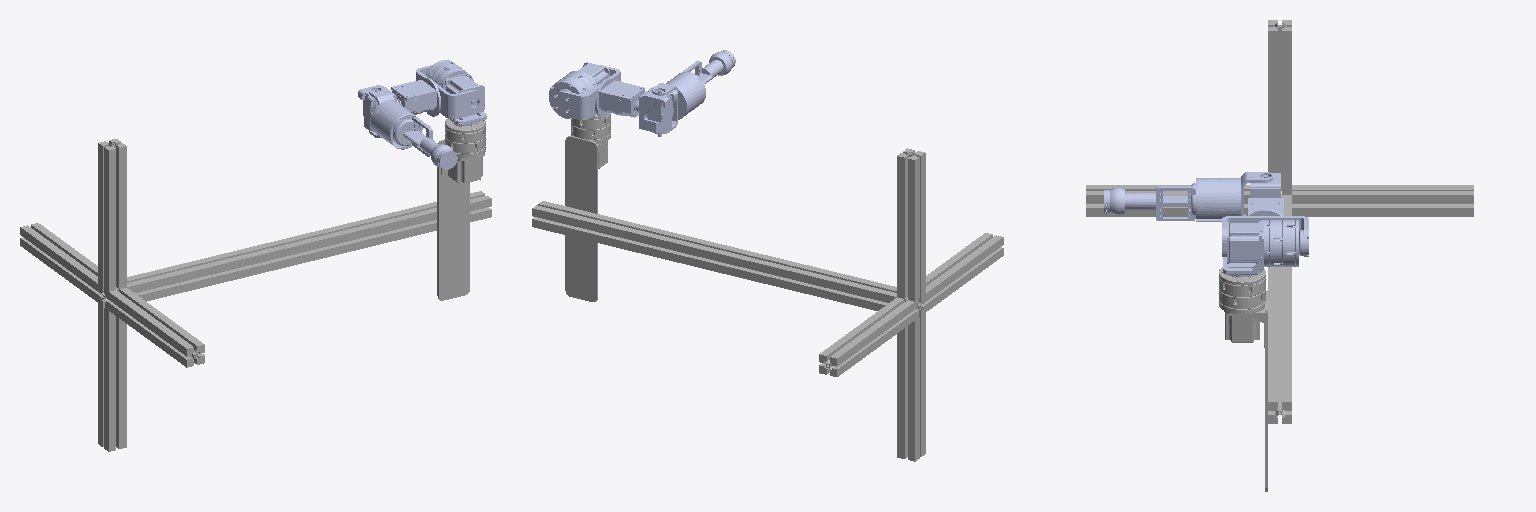
robot.urdf — structure:
<?xml version="1.0" encoding="utf-8"?>
<!-- This URDF was automatically created by SolidWorks to URDF Exporter! Originally created by [author] ([email redacted]) 
     Commit Version: 1.6.0-4-g7f85cfe  Build Version: 1.6.7995.38578
     For more information, please see http://wiki.ros.org/sw_urdf_exporter -->
<robot
  name="structure">
  <!-- Dummy root link -->
  <link name="dummy_root_link">
      <inertial>
          <origin xyz="0 0 0" rpy="0 0 0"/>
          <mass value="0"/>
          <inertia ixx="0" ixy="0" ixz="0" iyy="0" iyz="0" izz="0"/>
      </inertial>
  </link>
  <link	
    name="base_link">
    <inertial>
      <origin
        xyz="0.288254206450787 -0.0091997939503143 0.0226196209968666"
        rpy="0 0 0" />
      <mass
        value="2.71204264213078" />
      <inertia
        ixx="0.0114337911252394"
        ixy="-2.96734282003324E-08"
        ixz="4.84584273451362E-08"
        iyy="0.0624811448015093"
        iyz="4.98927049303481E-06"
        izz="0.0616434489627293" />
    </inertial>
    <visual>
      <origin
        xyz="0 0 0"
        rpy="0 0 0" />
      <geometry>
        <mesh
          filename="package://simulation/meshes/base_link.STL" />
      </geometry>
      <material
        name="">
        <color
          rgba="0.752941176470588 0.752941176470588 0.752941176470588 1" />
      </material>
    </visual>
    <collision>
      <origin
        xyz="0 0 0"
        rpy="0 0 0" />
      <geometry>
        <mesh
          filename="package://simulation/meshes/base_link.STL" />
      </geometry>
    </collision>
  </link>
  <joint name="dummy_to_base" type="fixed">
      <parent link="dummy_root_link"/>
      <child link="base_link"/>
  </joint>
  <link
    name="Link_1">
    <inertial>
      <origin
        xyz="-0.0337282336528616 0.00123774978740708 0.0721830829018513"
        rpy="0 0 0" />
      <mass
        value="0.420093635057637" />
      <inertia
        ixx="0.000256083732465909"
        ixy="-3.99170266250502E-08"
        ixz="4.75152381565343E-06"
        iyy="0.00018803318979449"
        iyz="4.52360894369062E-08"
        izz="0.000194145300752605" />
    </inertial>
    <visual>
      <origin
        xyz="0 0 0"
        rpy="0 0 0" />
      <geometry>
        <mesh
          filename="package://simulation/meshes/Link_1.STL" />
      </geometry>
      <material
        name="">
        <color
          rgba="0.792156862745098 0.819607843137255 0.933333333333333 1" />
      </material>
    </visual>
    <collision>
      <origin
        xyz="0 0 0"
        rpy="0 0 0" />
      <geometry>
        <mesh
          filename="package://simulation/meshes/Link_1.STL" />
      </geometry>
    </collision>
  </link>
  <joint
    name="Joint_1"
    type="revolute">
    <origin
      xyz="0.7675 -0.06215 0.1956"
      rpy="0 0 -1.5708" />
    <parent
      link="base_link" />
    <child
      link="Link_1" />
    <axis
      xyz="0 0 1" />
    <limit
      lower="-1.57"
      upper="1.57"
      effort="300"
      velocity="1" />
  </joint>
  <link
    name="Link_2">
    <inertial>
      <origin
        xyz="0.0416298378287598 -6.09470490440245E-05 -0.0663038404490417"
        rpy="0 0 0" />
      <mass
        value="0.278615955025223" />
      <inertia
        ixx="0.000165002912302521"
        ixy="-1.31094353708643E-11"
        ixz="-2.96260989967252E-05"
        iyy="0.000468565895924395"
        iyz="8.99879249902309E-06"
        izz="0.000407476308496427" />
    </inertial>
    <visual>
      <origin
        xyz="0 0 0"
        rpy="0 0 0" />
      <geometry>
        <mesh
          filename="package://simulation/meshes/Link_2.STL" />
      </geometry>
      <material
        name="">
        <color
          rgba="0.792156862745098 0.819607843137255 0.933333333333333 1" />
      </material>
    </visual>
    <collision>
      <origin
        xyz="0 0 0"
        rpy="0 0 0" />
      <geometry>
        <mesh
          filename="package://simulation/meshes/Link_2.STL" />
      </geometry>
    </collision>
  </link>
  <joint
    name="Joint_2"
    type="revolute">
    <origin
      xyz="0 0.0013362 0.07666"
      rpy="1.5708 0 3.1416" />
    <parent
      link="Link_1" />
    <child
      link="Link_2" />
    <axis
      xyz="1 0 0" />
    <limit
      lower="0"
      upper="3.142"
      effort="250"
      velocity="1" />
  </joint>
  <link
    name="Link_3">
    <inertial>
      <origin
        xyz="-0.00255572998753838 -0.000138853216705294 -0.040413033479959"
        rpy="0 0 0" />
      <mass
        value="0.181975615916788" />
      <inertia
        ixx="5.98760291726209E-05"
        ixy="-1.01654287036154E-08"
        ixz="-7.14820951270207E-06"
        iyy="8.71073633176546E-05"
        iyz="2.29352817486163E-20"
        izz="9.55833970874025E-05" />
    </inertial>
    <visual>
      <origin
        xyz="0 0 0"
        rpy="0 0 0" />
      <geometry>
        <mesh
          filename="package://simulation/meshes/Link_3.STL" />
      </geometry>
      <material
        name="">
        <color
          rgba="0.792156862745098 0.819607843137255 0.933333333333333 1" />
      </material>
    </visual>
    <collision>
      <origin
        xyz="0 0 0"
        rpy="0 0 0" />
      <geometry>
        <mesh
          filename="package://simulation/meshes/Link_3.STL" />
      </geometry>
    </collision>
  </link>
  <joint
    name="Joint_3"
    type="revolute">
    <origin
      xyz="0.038437 -0.00375 -0.12973"
      rpy="0 0 -1.5708" />
    <parent
      link="Link_2" />
    <child
      link="Link_3" />
    <axis
      xyz="0 0 1" />
    <limit
      lower="-1.57"
      upper="1.57"
      effort="200"
      velocity="1" />
  </joint>
  <link
    name="Link_4">
    <inertial>
      <origin
        xyz="-0.000204143477795682 -1.48706843228208E-08 0.0729352587861481"
        rpy="0 0 0" />
      <mass
        value="0.290561826608547" />
      <inertia
        ixx="0.000215343751812786"
        ixy="-1.18549672936912E-10"
        ixz="1.46007563330613E-06"
        iyy="0.000241962713427212"
        iyz="1.36290875047269E-10"
        izz="0.000191038892171142" />
    </inertial>
    <visual>
      <origin
        xyz="0 0 0"
        rpy="0 0 0" />
      <geometry>
        <mesh
          filename="package://simulation/meshes/Link_4.STL" />
      </geometry>
      <material
        name="">
        <color
          rgba="0.792156862745098 0.819607843137255 0.933333333333333 1" />
      </material>
    </visual>
    <collision>
      <origin
        xyz="0 0 0"
        rpy="0 0 0" />
      <geometry>
        <mesh
          filename="package://simulation/meshes/Link_4.STL" />
      </geometry>
    </collision>
  </link>
  <joint
    name="Joint_4"
    type="revolute">
    <origin
      xyz="0 0 -0.047"
      rpy="1.5708 0 0" />
    <parent
      link="Link_3" />
    <child
      link="Link_4" />
    <axis
      xyz="-1 0 0" />
    <limit
      lower="-1.57"
      upper="1.57"
      effort="150"
      velocity="2" />
  </joint>
  <link
    name="Link_5">
    <inertial>
      <origin
        xyz="7.52893854205627E-09 -0.00588084447256662 0.0735173344149918"
        rpy="0 0 0" />
      <mass
        value="0.09899847472984" />
      <inertia
        ixx="0.000233936398203996"
        ixy="3.56312559160043E-12"
        ixz="2.69379226551096E-11"
        iyy="0.000236429656540369"
        iyz="3.81602268364248E-06"
        izz="2.12990655219596E-05" />
    </inertial>
    <visual>
      <origin
        xyz="0 0 0"
        rpy="0 0 0" />
      <geometry>
        <mesh
          filename="package://simulation/meshes/Link_5.STL" />
      </geometry>
      <material
        name="">
        <color
          rgba="0.792156862745098 0.819607843137255 0.933333333333333 1" />
      </material>
    </visual>
    <collision>
      <origin
        xyz="0 0 0"
        rpy="0 0 0" />
      <geometry>
        <mesh
          filename="package://simulation/meshes/Link_5.STL" />
      </geometry>
    </collision>
  </link>
  <joint
    name="Joint_5"
    type="revolute">
    <origin
      xyz="-0.0003934 0 0.11591"
      rpy="0 0 3.1416" />
    <parent
      link="Link_4" />
    <child
      link="Link_5" />
    <axis
      xyz="0 0 1" />
    <limit
      lower="-1.57"
      upper="1.57"
      effort="100"
      velocity="2" />
  </joint>
  <link
    name="Link_6">
    <inertial>
      <origin
        xyz="1.54813459968262E-08 0.00699176208068461 -2.1994034093975E-09"
        rpy="0 0 0" />
      <mass
        value="0.0219203307644374" />
      <inertia
        ixx="6.24219812154435E-06"
        ixy="-1.78757331985773E-12"
        ixz="1.01577205547272E-12"
        iyy="7.19149255148497E-06"
        iyz="3.79315945833703E-13"
        izz="6.23132089471632E-06" />
    </inertial>
    <visual>
      <origin
        xyz="0 0 0"
        rpy="0 0 0" />
      <geometry>
        <mesh
          filename="package://simulation/meshes/Link_6.STL" />
      </geometry>
      <material
        name="">
        <color
          rgba="0.792156862745098 0.819607843137255 0.933333333333333 1" />
      </material>
    </visual>
    <collision>
      <origin
        xyz="0 0 0"
        rpy="0 0 0" />
      <geometry>
        <mesh
          filename="package://simulation/meshes/Link_6.STL" />
      </geometry>
    </collision>
  </link>
  <joint
    name="Joint_6"
    type="revolute">
    <origin
      xyz="0 -0.006 0.12885"
      rpy="1.5708 0 -0.16202" />
    <parent
      link="Link_5" />
    <child
      link="Link_6" />
    <axis
      xyz="0 1 0" />
    <limit
      lower="-1.57"
      upper="1.57"
      effort="100"
      velocity="2" />
  </joint>
  <gazebo>
      <plugin
          filename="libignition-gazebo-scene-broadcaster-system.so"
          name="ignition::gazebo::systems::SceneBroadcaster">
      </plugin>
  </gazebo>
  
</robot>

--- Render facts (derived) ---
The picture shows the robot from 3 angles, left to right: view 1: azimuth 30°, elevation 25°; view 2: azimuth 150°, elevation 25°; view 3: azimuth 270°, elevation 25°; orthographic projection.
Robot: structure — 8 links, 7 joints (6 revolute, 1 fixed); root link dummy_root_link; default pose: all joints at 0.
Links seen in each view (by area): view 1: base_link, Link_2, Link_1, Link_4, Link_5; view 2: base_link, Link_2, Link_4, Link_3, Link_1; view 3: base_link, Link_1, Link_4, Link_2, Link_5, Link_3, Link_6.
Link boxes in pixels (box(x1,y1,x2,y2)): base_link: box(20, 118, 491, 451); Link_2: box(391, 65, 481, 118); Link_1: box(426, 60, 486, 125); Link_4: box(369, 87, 422, 149); Link_5: box(394, 117, 438, 156); base_link: box(532, 113, 1003, 461); Link_2: box(552, 65, 644, 119); Link_4: box(652, 72, 705, 133); Link_3: box(636, 87, 677, 136); Link_1: box(549, 62, 609, 118); base_link: box(1086, 20, 1473, 491); Link_1: box(1223, 220, 1298, 276); Link_4: box(1196, 172, 1272, 221); Link_2: box(1222, 198, 1308, 256); Link_5: box(1106, 183, 1195, 220); Link_3: box(1250, 173, 1280, 197); Link_6: box(1104, 187, 1124, 214).
Bounding box of the posed robot: 0.85 × 0.64 × 0.64 m (x, y, z).
Meshes: 7 distinct files referenced, 7 mesh visuals loaded (7 binary STL).